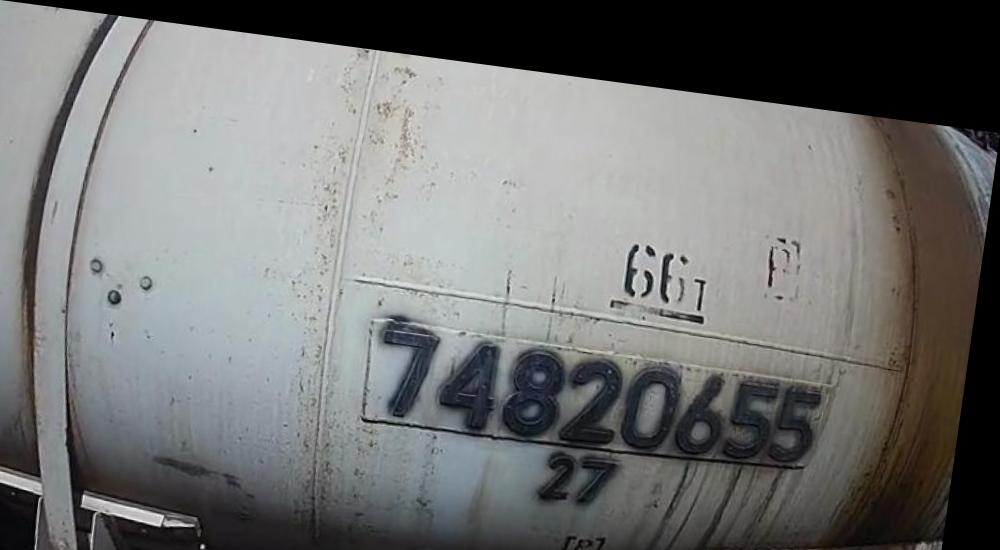Wagon-number: (372, 309, 833, 453)
